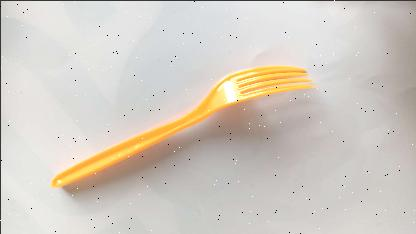Others: (50, 55, 318, 189)
